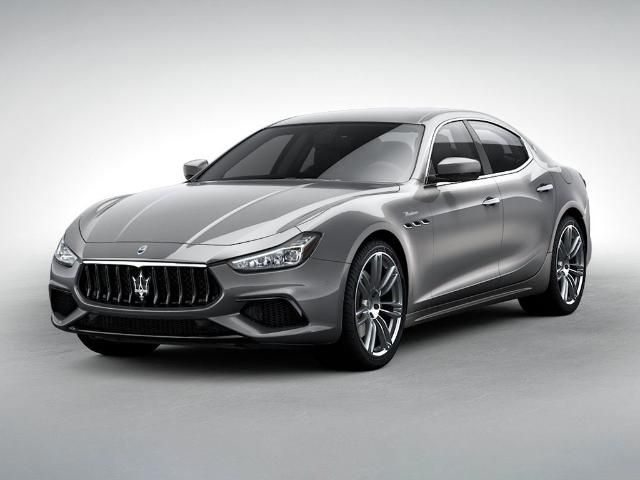maserati: (49, 106, 593, 370)
